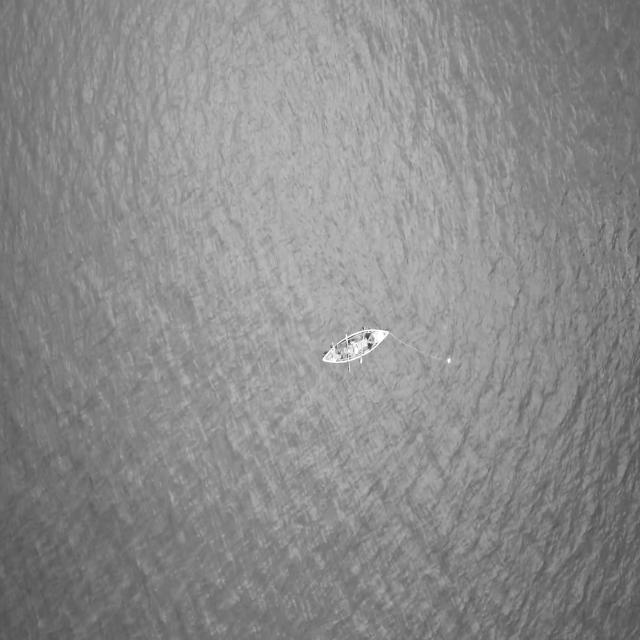ship: (322, 319, 391, 373)
